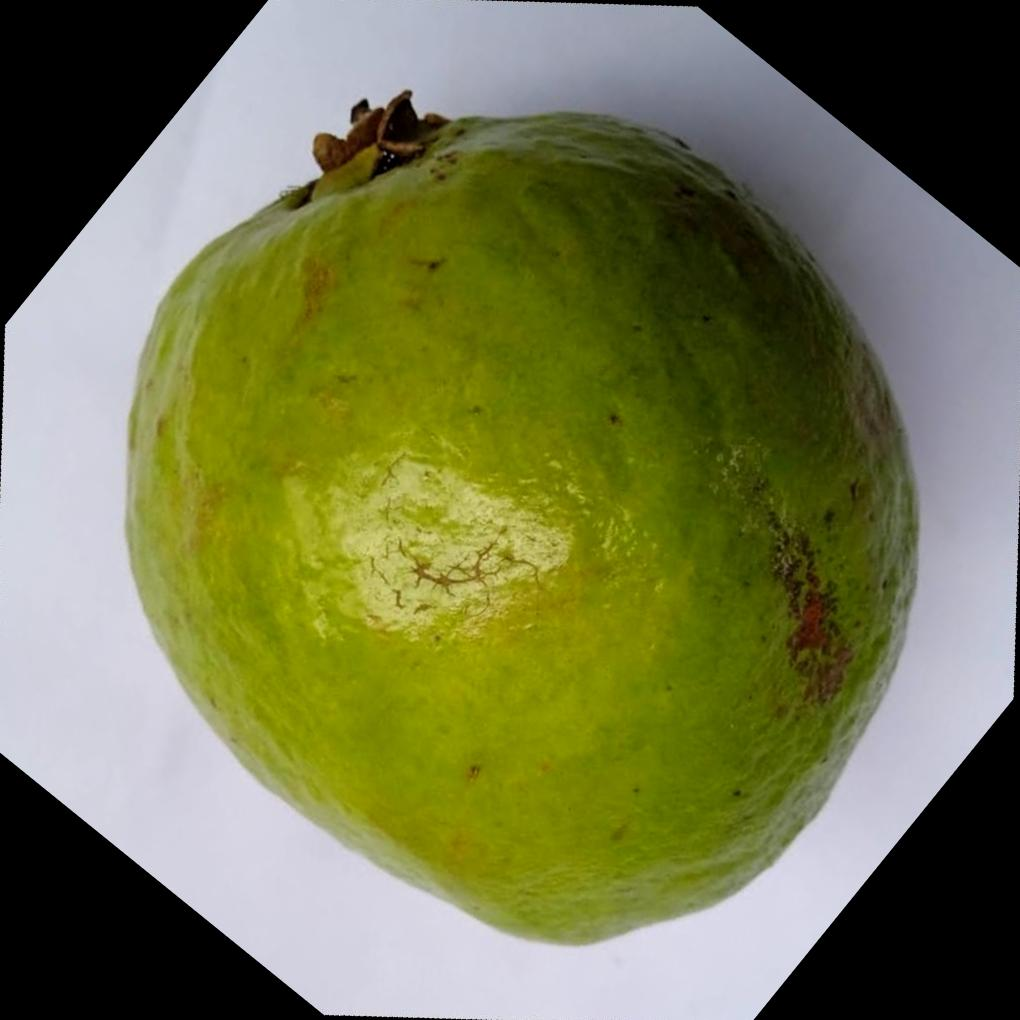FreshGuava: (124, 88, 925, 947)
